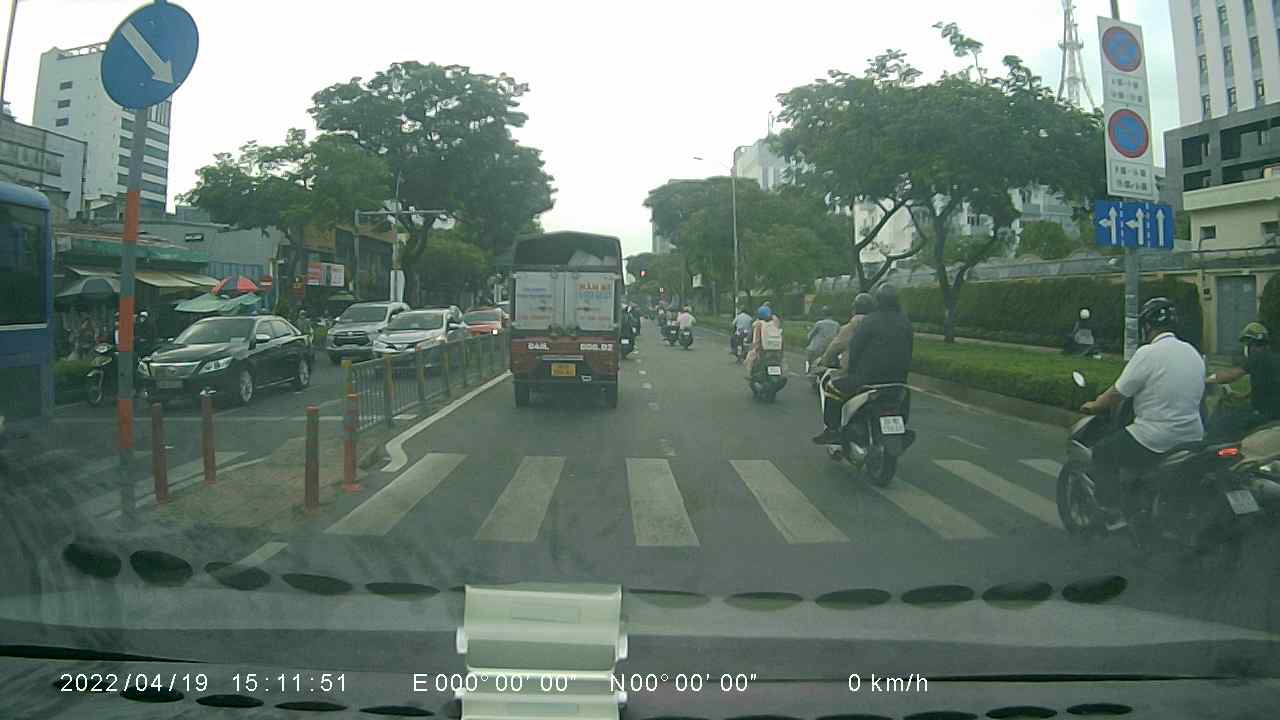Bien khac: (1089, 194, 1181, 255), (1100, 19, 1149, 77)
Cam do xe: (1105, 102, 1150, 160)
Huong di phai re phai: (102, 1, 198, 113)
